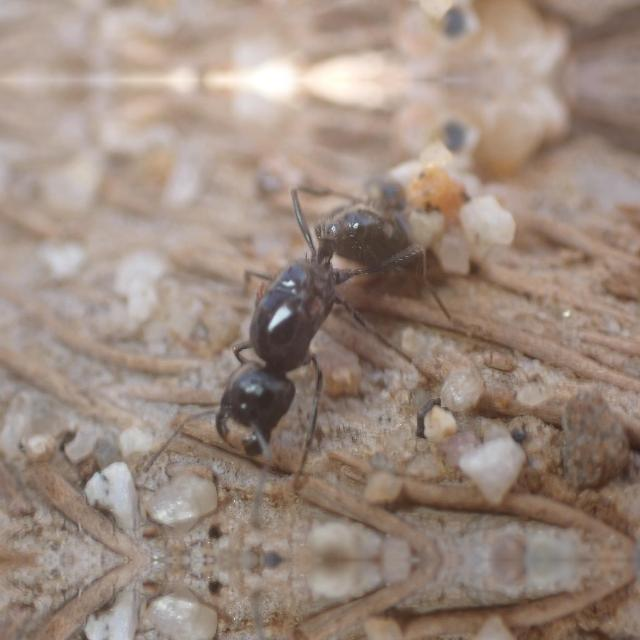Messor: (200, 184, 412, 476)
